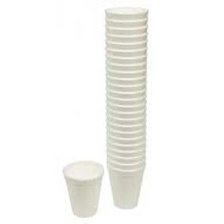paper_cup: (98, 0, 155, 212), (57, 155, 107, 221)
